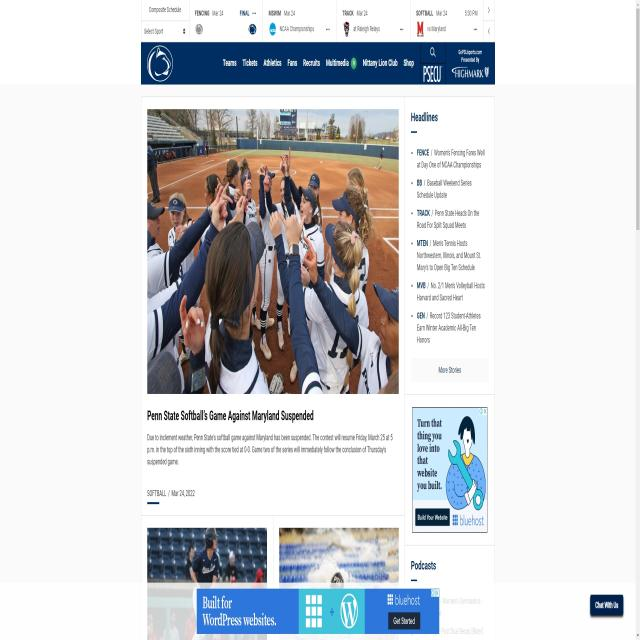menu-bar: (217, 44, 417, 75)
